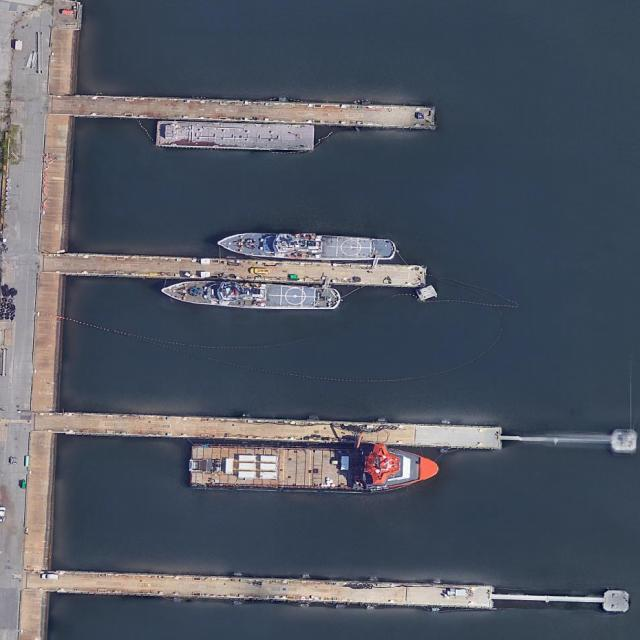Cargo: (186, 437, 440, 495)
Dock: (50, 568, 494, 610), (55, 412, 501, 448), (74, 94, 435, 131), (64, 254, 425, 286)
Landing: (160, 277, 341, 316), (217, 231, 398, 267)
